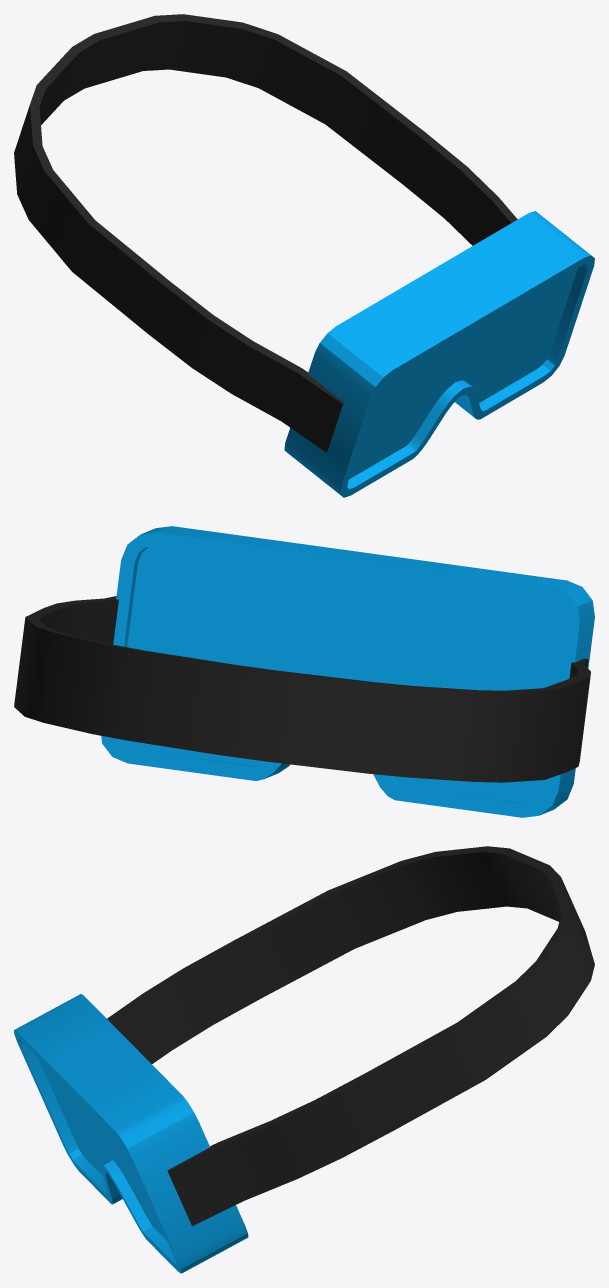
The model's file is goggles.gltf.
3 renders of one model, top to bottom at view 1: azimuth 30°, elevation 25°; view 2: azimuth 150°, elevation 25°; view 3: azimuth 270°, elevation 25°, orthographic. The views are drawn at different scales.
Visible parts, largest first — view 1: Plane.103; view 2: Plane.103; view 3: Plane.103.
Part boxes in pixels (bbox=[...]): Plane.103: bbox=[14, 14, 594, 497]; Plane.103: bbox=[14, 526, 594, 817]; Plane.103: bbox=[14, 846, 594, 1273].
Size of the model in its own units: 2.3 by 1.52 by 2.77.
1 material, 1 textured.
